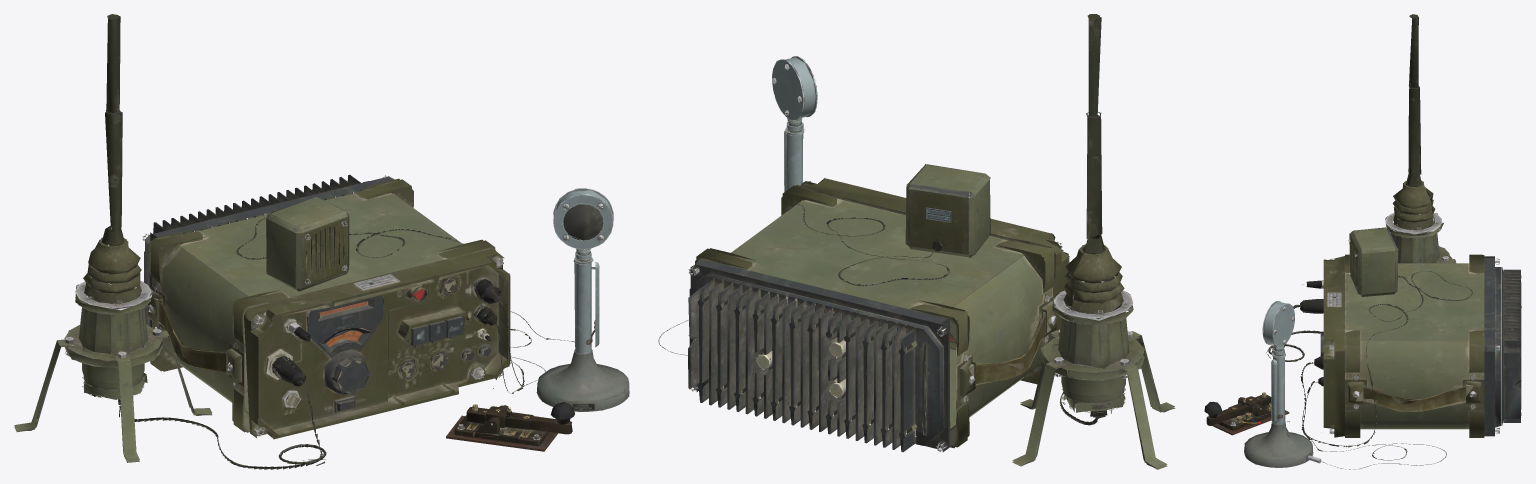
Rendered from vintage_radio_transceiver.glb.
The picture shows the model from 3 angles, left to right: view 1: azimuth 30°, elevation 25°; view 2: azimuth 150°, elevation 25°; view 3: azimuth 270°, elevation 25°; orthographic projection. The views are drawn at different scales.
Visible parts, largest first — view 1: vintage_radio_transceiver, vintage_radio_transceiver_antenna, vintage_radio_transceiver_microphone, vintage_radio_transceiver_speaker, vintage_radio_transceiver_morse_key_base, vintage_radio_transceiver_cables, vintage_radio_transceiver_morse_key_arm, vintage_radio_transceiver_dial, vintage_radio_transceiver_antenna_plug_a; view 2: vintage_radio_transceiver, vintage_radio_transceiver_antenna, vintage_radio_transceiver_speaker, vintage_radio_transceiver_microphone, vintage_radio_transceiver_cables; view 3: vintage_radio_transceiver, vintage_radio_transceiver_antenna, vintage_radio_transceiver_microphone, vintage_radio_transceiver_speaker, vintage_radio_transceiver_cables, vintage_radio_transceiver_morse_key_arm, vintage_radio_transceiver_morse_key_base.
Part boxes in pixels (x1,y1,x2,y2): vintage_radio_transceiver: (142, 174, 510, 439); vintage_radio_transceiver_antenna: (14, 14, 211, 462); vintage_radio_transceiver_microphone: (536, 188, 629, 411); vintage_radio_transceiver_speaker: (266, 197, 349, 291); vintage_radio_transceiver_morse_key_base: (446, 405, 557, 451); vintage_radio_transceiver_cables: (119, 218, 574, 469); vintage_radio_transceiver_morse_key_arm: (466, 402, 574, 434); vintage_radio_transceiver_dial: (324, 328, 369, 394); vintage_radio_transceiver_antenna_plug_a: (272, 356, 306, 386); vintage_radio_transceiver: (688, 178, 1069, 452); vintage_radio_transceiver_antenna: (1012, 14, 1175, 469); vintage_radio_transceiver_speaker: (905, 164, 990, 257); vintage_radio_transceiver_microphone: (772, 56, 817, 191); vintage_radio_transceiver_cables: (658, 204, 1125, 425); vintage_radio_transceiver: (1323, 254, 1521, 437); vintage_radio_transceiver_antenna: (1385, 14, 1456, 263); vintage_radio_transceiver_microphone: (1244, 301, 1321, 467); vintage_radio_transceiver_speaker: (1348, 227, 1398, 296); vintage_radio_transceiver_cables: (1266, 271, 1472, 469); vintage_radio_transceiver_morse_key_arm: (1204, 392, 1271, 425); vintage_radio_transceiver_morse_key_base: (1206, 397, 1289, 435).
Bounding box in the file's own units: 0.5741 × 0.4347 × 0.4136.
2 materials, 2 textured.
